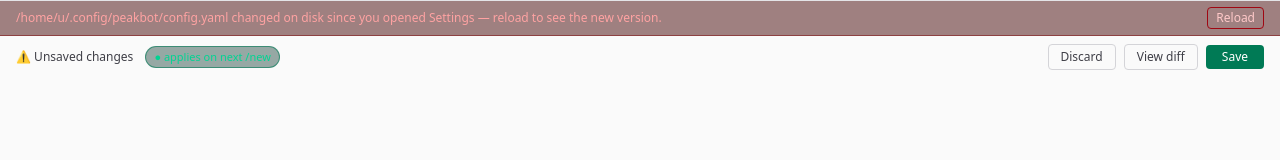
SaveBar › put_409_shows_stale
Check: the element with test id "savebar-stale" shows "changed on disk", box [16,9,662,26]
Click the button with test id "savebar-stale-reload".
click(1236, 18)  # box [1207,7,1264,29]
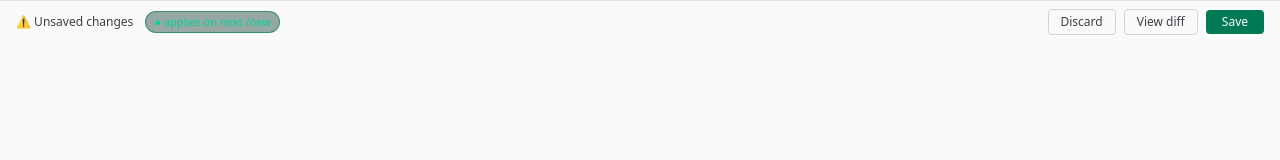
Check: the element with test id "savebar-stale" is gone
